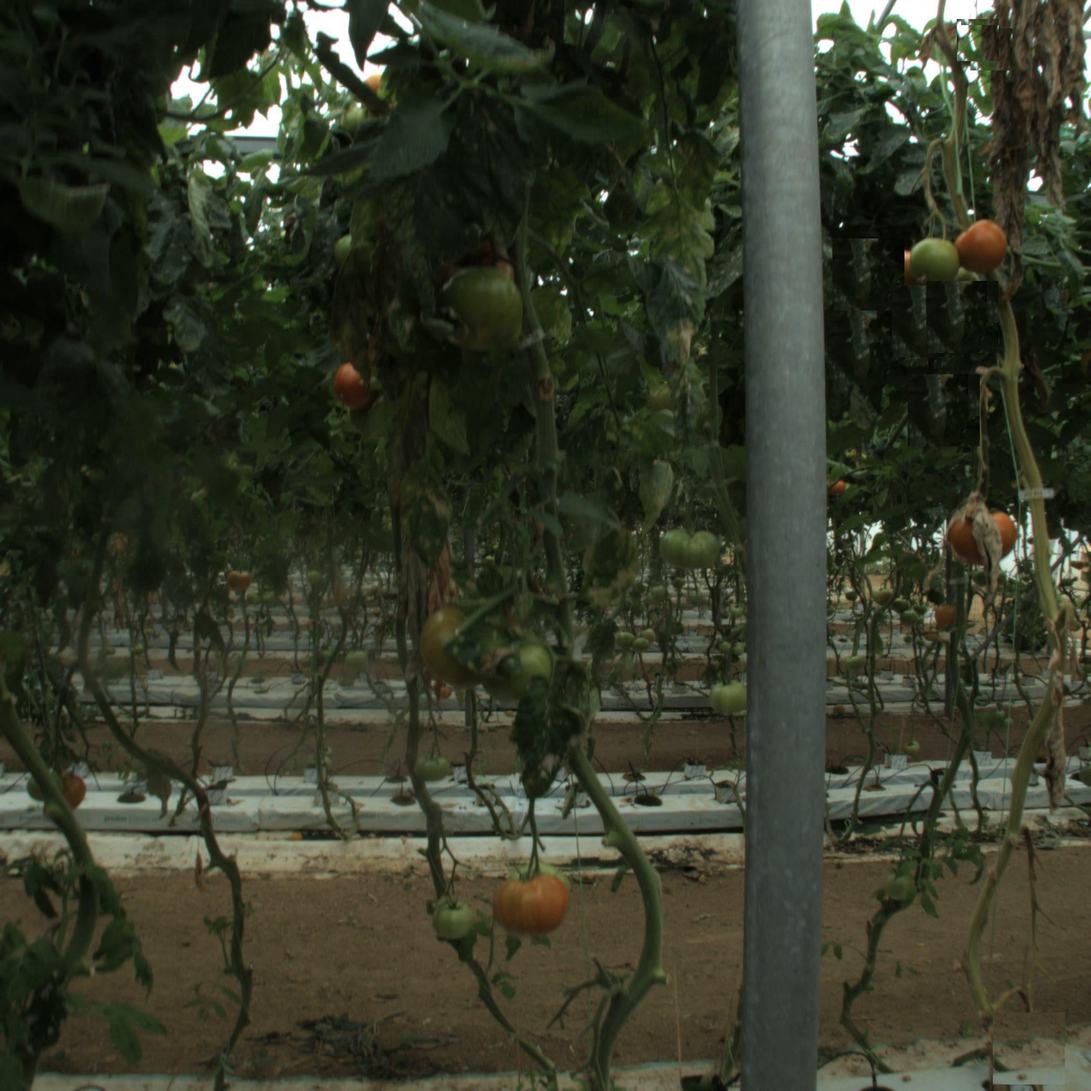fully-ripe: (943, 497, 1019, 574), (337, 362, 382, 406), (962, 221, 1006, 266)
semi-ripe: (420, 607, 503, 690), (492, 863, 566, 937)
unripe: (433, 262, 524, 354), (495, 639, 560, 703), (660, 519, 717, 576), (427, 892, 482, 946), (913, 237, 958, 282), (704, 680, 746, 722)
